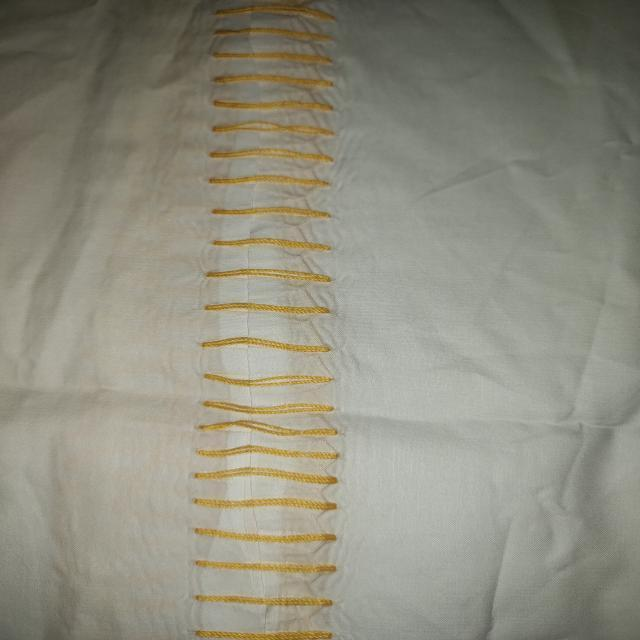Stitch: (176, 11, 358, 640)
